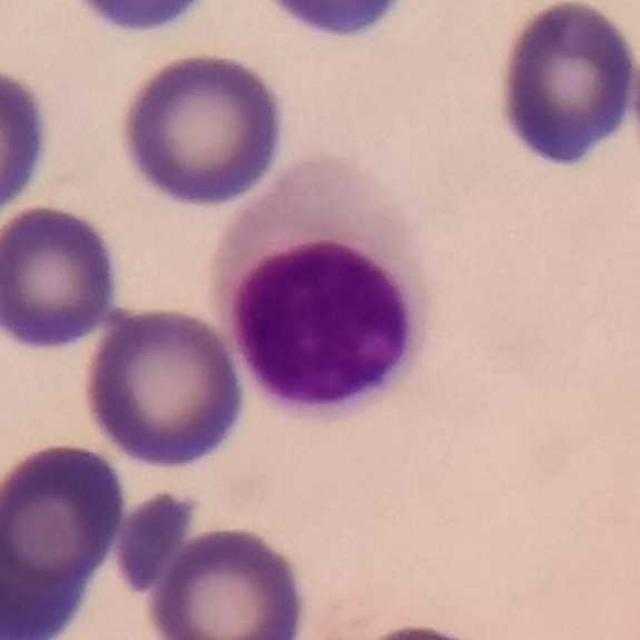Lymphocyte: (211, 158, 439, 426)
RBC: (79, 303, 249, 472), (114, 47, 290, 209), (0, 436, 130, 639), (492, 0, 640, 173), (141, 521, 312, 640), (0, 200, 122, 354), (110, 485, 200, 599), (230, 0, 438, 49), (0, 60, 55, 226), (48, 0, 229, 41), (367, 621, 466, 640)
